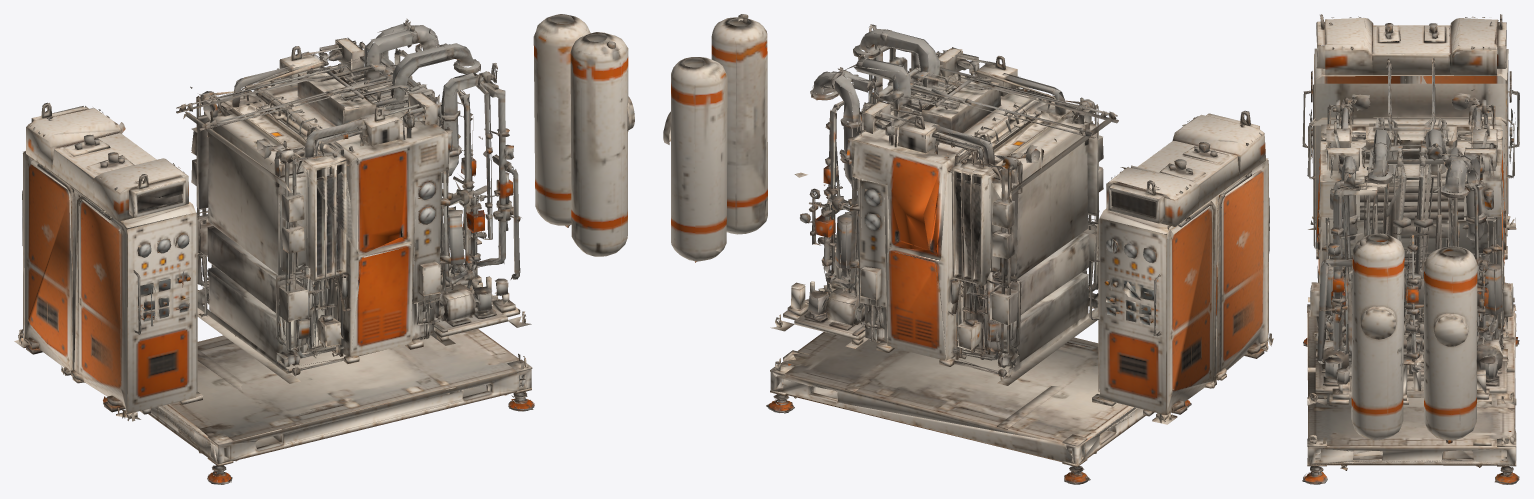
Rendered from 生命装置_v2.glb.
3 renders of one model, left to right at view 1: azimuth 30°, elevation 25°; view 2: azimuth 150°, elevation 25°; view 3: azimuth 270°, elevation 25°, orthographic. The views are drawn at different scales.
Visible parts, largest first — view 1: CUT_test, CUT_test.005, CUT_test.004, CUT_test.001, TANK_01; view 2: CUT_test, CUT_test.005, CUT_test.004, TANK_01, CUT_test.001; view 3: CUT_test, CUT_test.005, CUT_test.004, CUT_test.001, TANK_01.
Boxes of the visible parts, <box> form: CUT_test: <box>176,18,531,383</box>; CUT_test.005: <box>14,102,207,421</box>; CUT_test.004: <box>103,329,534,484</box>; CUT_test.001: <box>570,32,634,256</box>; TANK_01: <box>533,14,590,227</box>; CUT_test: <box>770,24,1118,385</box>; CUT_test.005: <box>1089,110,1273,424</box>; CUT_test.004: <box>766,332,1191,484</box>; TANK_01: <box>663,57,727,262</box>; CUT_test.001: <box>711,14,767,234</box>; CUT_test: <box>1307,58,1516,405</box>; CUT_test.005: <box>1302,14,1519,259</box>; CUT_test.004: <box>1302,304,1519,484</box>; CUT_test.001: <box>1351,233,1412,440</box>; TANK_01: <box>1424,246,1477,443</box>.
Bounding box in the file's own units: 1.59 × 0.9676 × 0.5976.
Materials: 1 (1 with a texture image).
